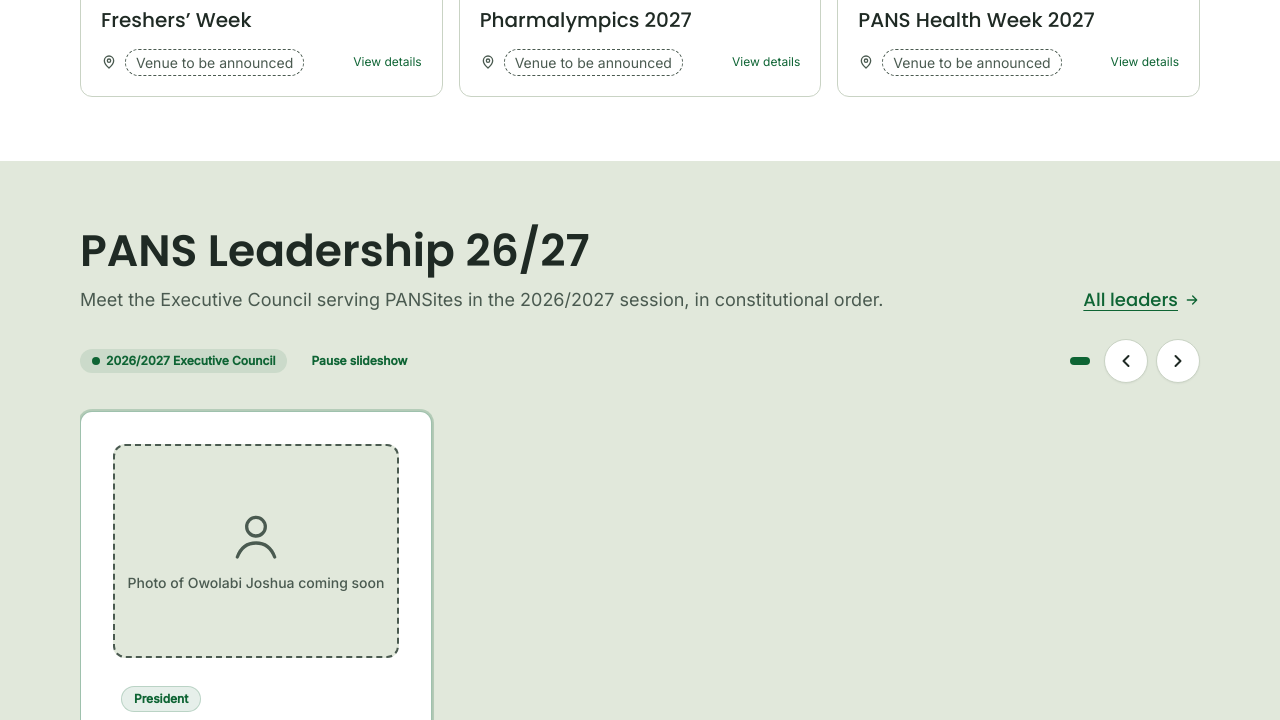
home page › shows the PANS Leadership 26/27 slider with read more links
(page scrolled)
expect the text "President" is shown: met, box [121,686,201,712]
expect the button named "Previous executive" is shown: met, box [1104,339,1148,383]
What coordinates should you click on to do the following:
click the button "Pause slideshow"
I would click on:
 (360, 361)
Its box is [300,339,420,383].
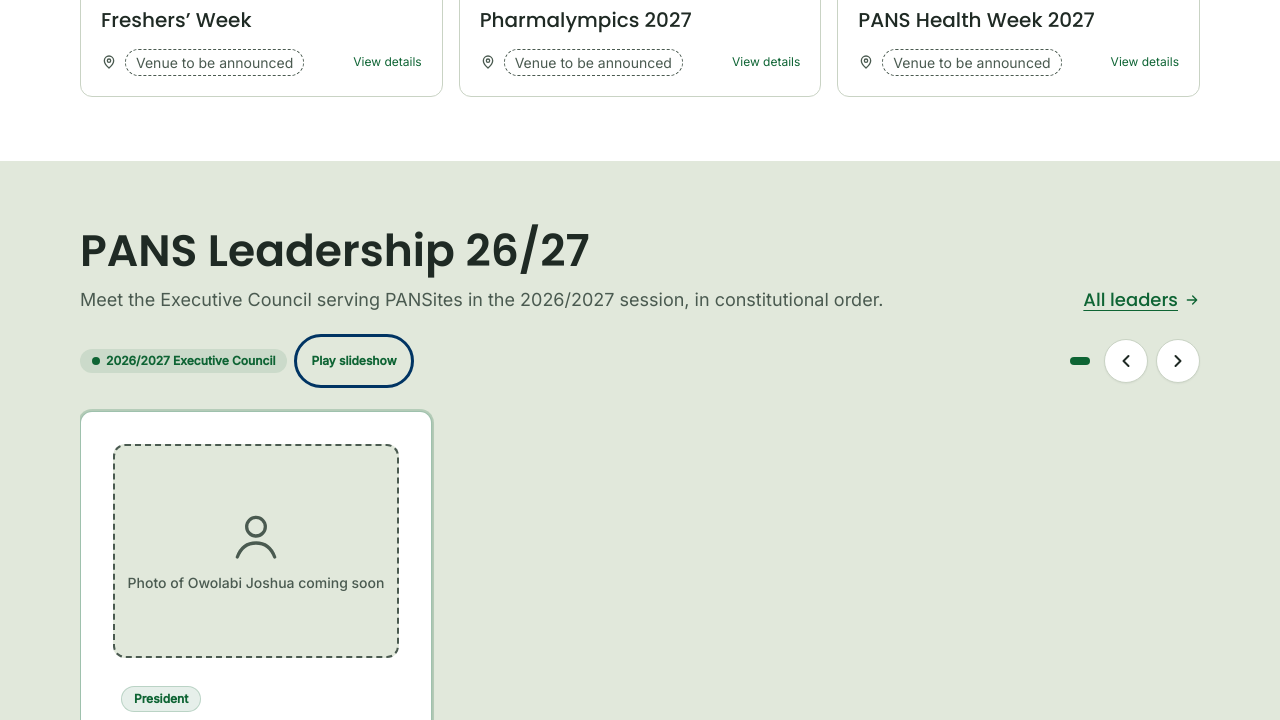
expect the picture "Photo of Owolabi Joshua coming soon" is shown: met, box [113,444,399,658]
expect the button "Play slideshow" is shown: met, box [300,339,409,383]
